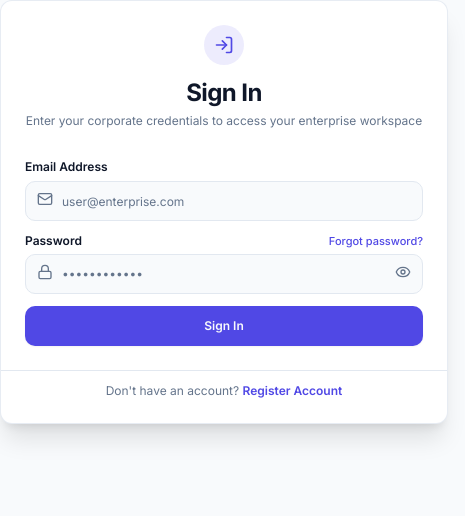
it: Phase 1.4 Auth & Identity UI Components › LoginForm Component › shows validation error if submitted empty
Click the button "Sign In": coordinates (224, 326) left=25, top=306, right=423, bottom=346
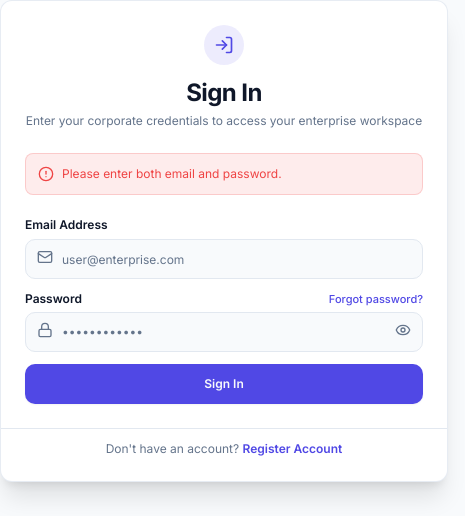
Now the text "Please enter both email and password." is shown, box left=62, top=166, right=282, bottom=182
